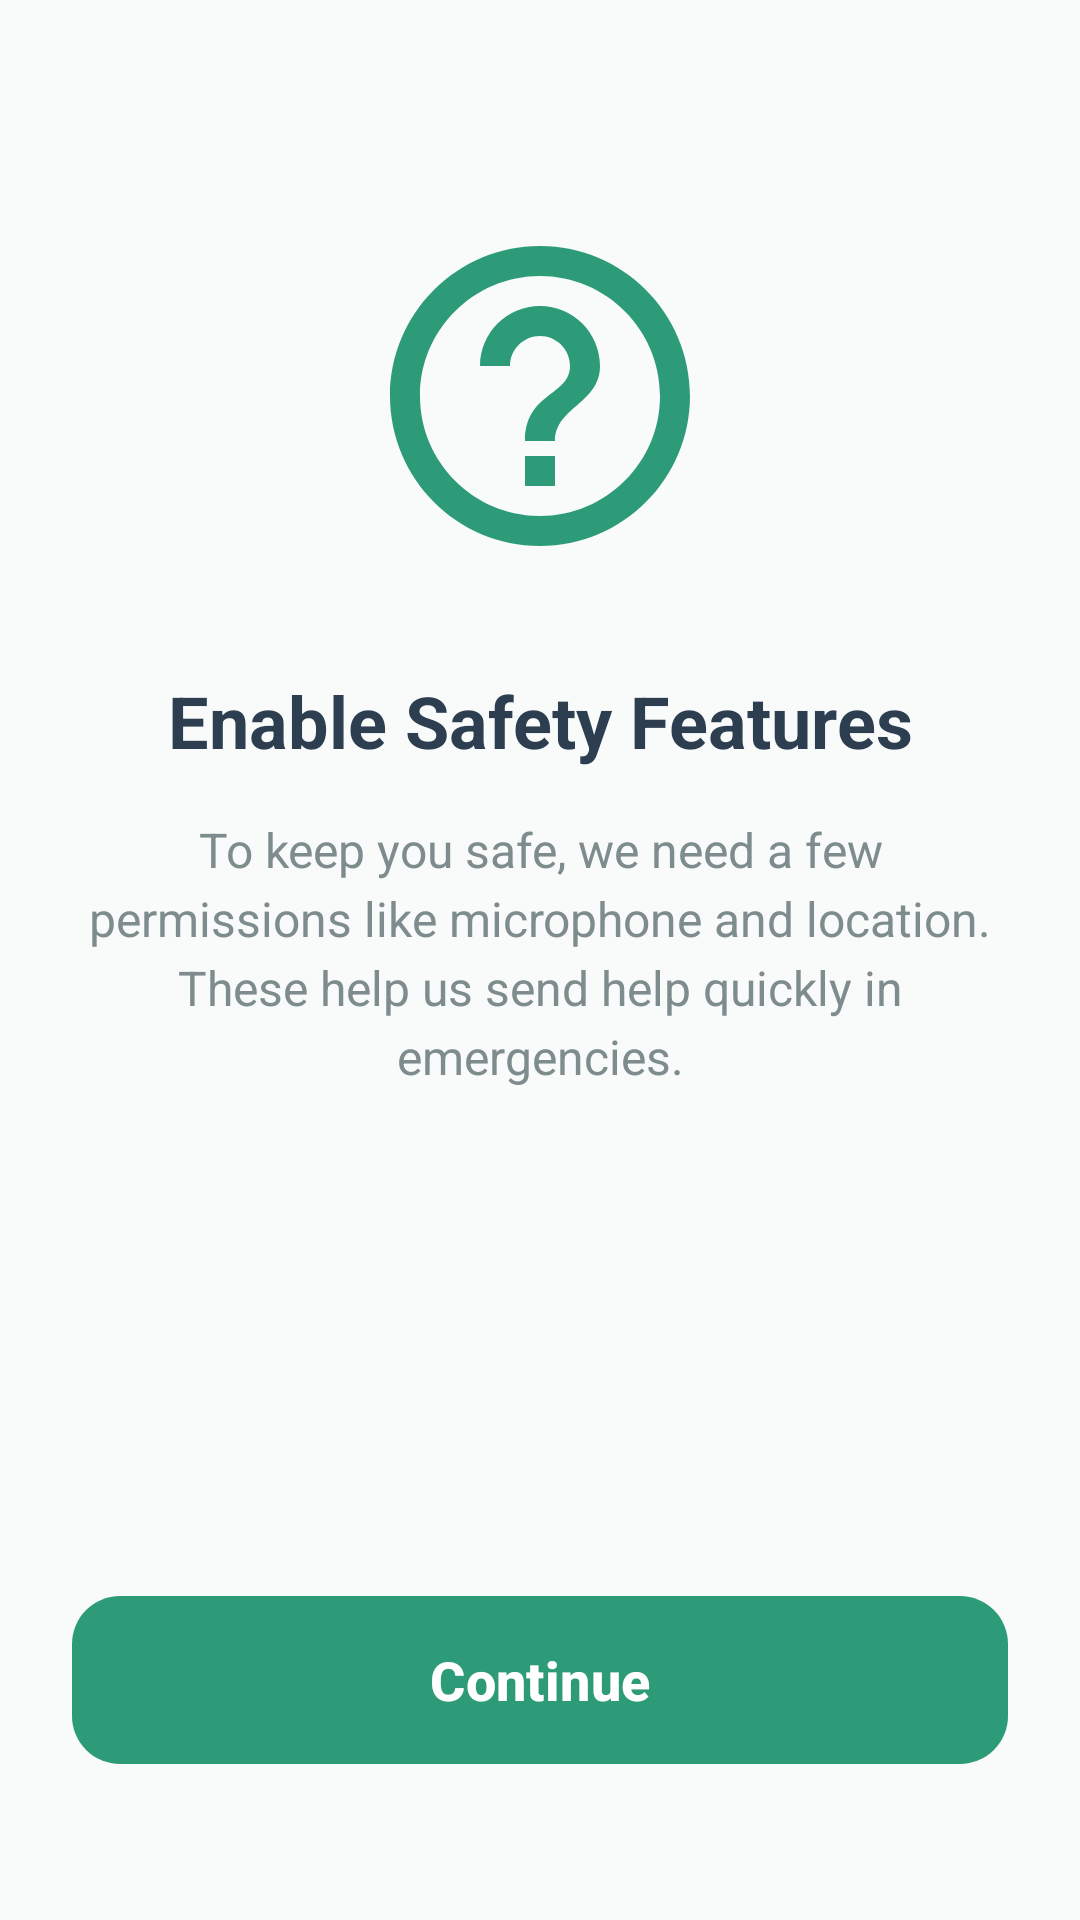

Where to tap for icons on this 1080*1920 app screen, as point (x, y):
help: point (540, 396)
